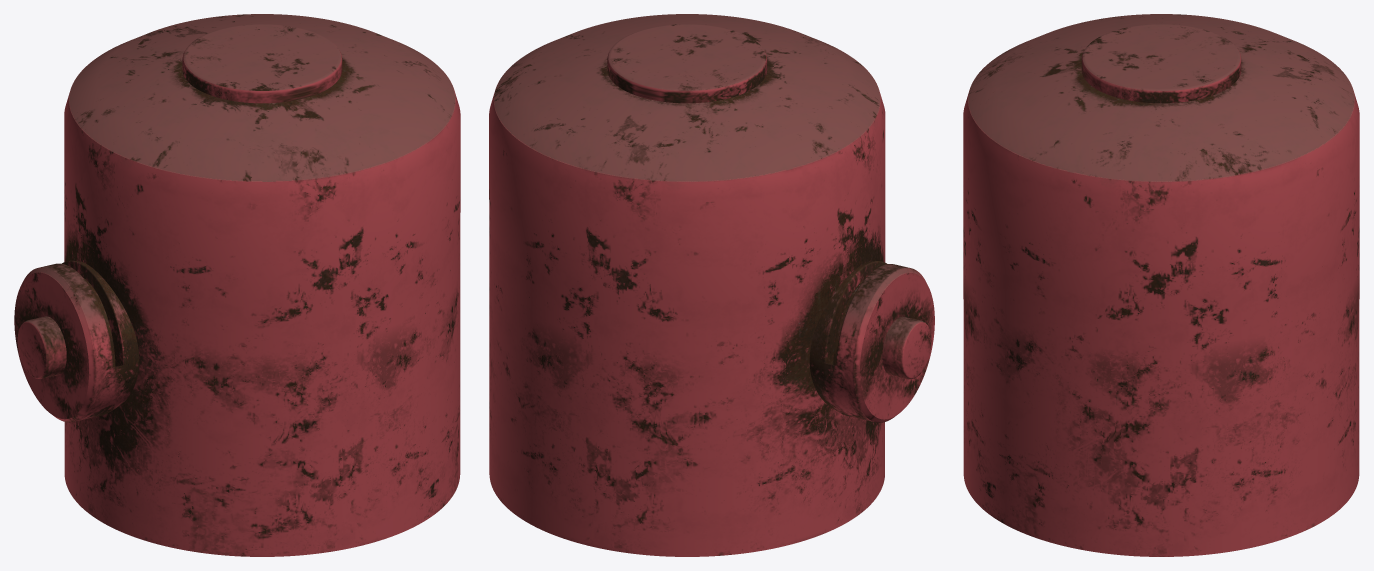
Rendered from tongzi.FBX.
3 renders of one model, left to right at view 1: azimuth 30°, elevation 25°; view 2: azimuth 150°, elevation 25°; view 3: azimuth 270°, elevation 25°, orthographic.
Parts seen in each view (by area): view 1: Cylinder001; view 2: Cylinder001; view 3: Cylinder001.
Boxes of the visible parts, x1=… form: Cylinder001: x1=14, y1=14, x2=460, y2=556; Cylinder001: x1=489, y1=14, x2=934, y2=556; Cylinder001: x1=963, y1=14, x2=1359, y2=556.
Size of the model in its own units: 29.4 by 29.1 by 25.05.
